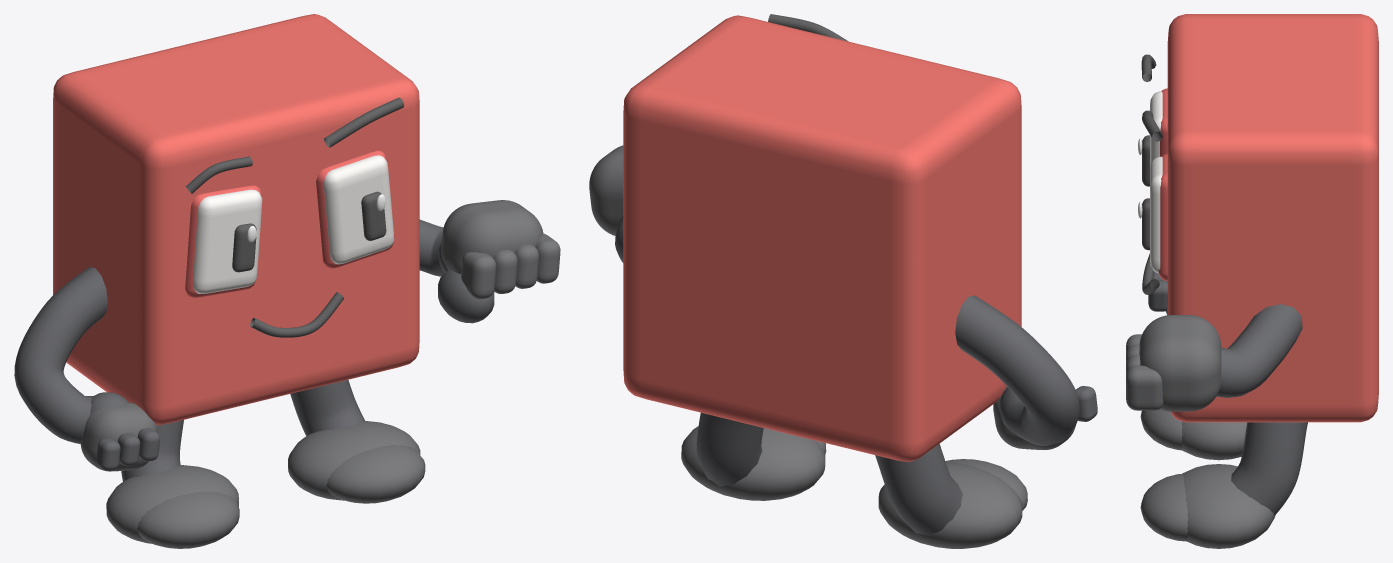
File: mascot-procedural.glb
3 views of the same model, side by side, from view 1: azimuth 30°, elevation 25°; view 2: azimuth 150°, elevation 25°; view 3: azimuth 270°, elevation 25° (orthographic). The views are drawn at different scales.
Visible parts, largest first — view 1: red-volumetric-cube, eye-white (×2), left-arm, shoe (×2), shoe-toe (×2), right-glove, leg (×2), right-knuckle (×4), eye-shadow (×2), left-glove, pupil (×2), right-thumb (+5 smaller); view 2: red-volumetric-cube, shoe (×2), left-arm, leg (×2), right-glove, shoe-toe, left-glove, right-eyebrow, left-knuckles; view 3: red-volumetric-cube, shoe (×2), right-glove, leg, right-arm, shoe-toe (×2), eye-white (×2), right-knuckle, eye-shadow (×2), pupil (×2), left-knuckles, smile (+1 smaller).
Part boxes in pixels (x1,y1,x2,y2): red-volumetric-cube: [53, 14, 419, 425]; eye-white (×2): [193, 155, 394, 293]; left-arm: [14, 267, 107, 443]; shoe (×2): [106, 421, 420, 543]; shoe-toe (×2): [137, 445, 425, 548]; right-glove: [441, 200, 543, 274]; leg (×2): [121, 380, 365, 481]; right-knuckle (×4): [461, 233, 560, 299]; eye-shadow (×2): [185, 150, 394, 297]; left-glove: [80, 402, 157, 471]; pupil (×2): [232, 191, 386, 272]; right-thumb: [438, 270, 494, 323]; red-volumetric-cube: [623, 15, 1021, 461]; shoe (×2): [681, 426, 1022, 548]; left-arm: [955, 295, 1079, 445]; leg (×2): [696, 412, 962, 535]; right-glove: [589, 145, 623, 235]; shoe-toe: [945, 459, 1027, 510]; left-glove: [993, 386, 1075, 449]; right-eyebrow: [768, 14, 848, 41]; left-knuckles: [1075, 386, 1097, 421]; red-volumetric-cube: [1167, 14, 1378, 422]; shoe (×2): [1181, 421, 1275, 548]; right-glove: [1139, 315, 1221, 411]; leg: [1231, 422, 1307, 515]; right-arm: [1216, 304, 1302, 397]; shoe-toe (×2): [1140, 409, 1188, 541]; eye-white (×2): [1150, 91, 1162, 273]; right-knuckle: [1126, 365, 1163, 410]; eye-shadow (×2): [1158, 88, 1167, 280]; pupil (×2): [1142, 135, 1149, 250]; left-knuckles: [1148, 280, 1167, 311]; smile: [1142, 253, 1159, 294].
Size of the model in its own units: 4.6 by 3.82 by 2.09.
